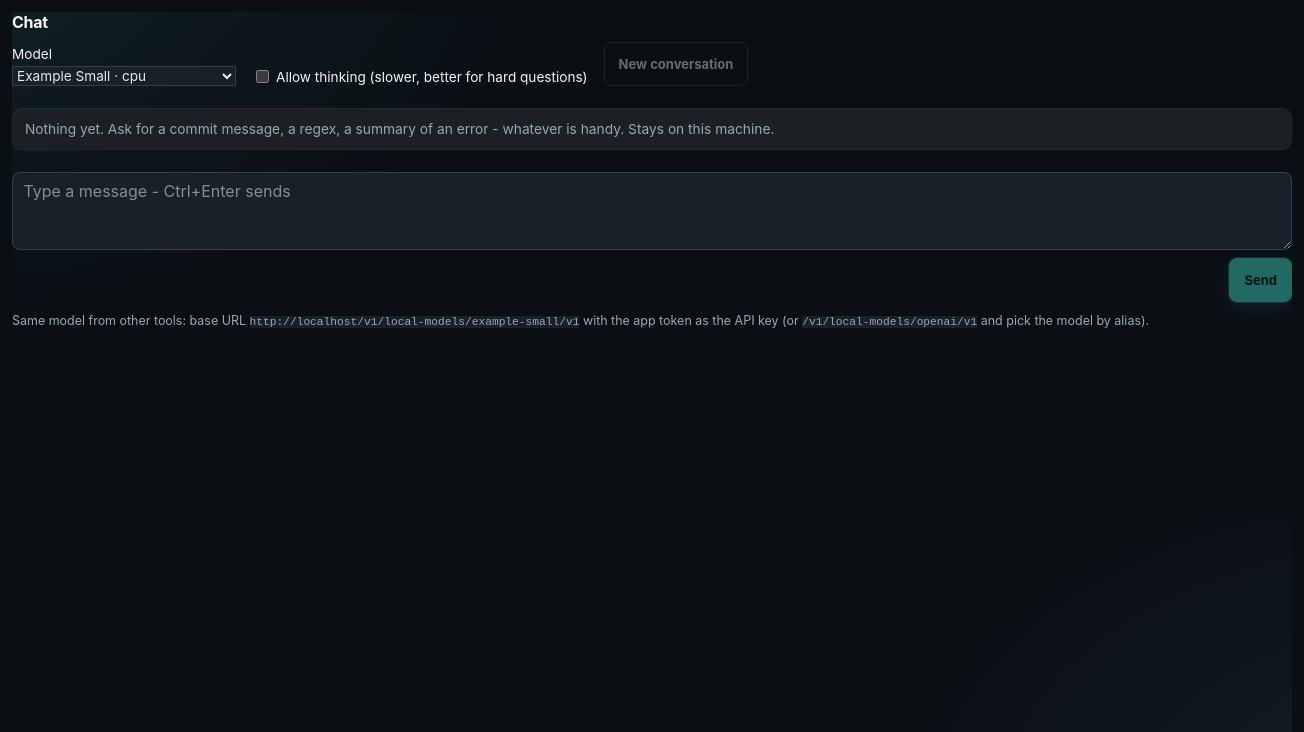
LocalModelChatPanel › retries a token-limited message exactly once while keeping the next draft
Type "Example bounded request" into the text box labelled "message" at (652, 211), box left=12, top=172, right=1292, bottom=250
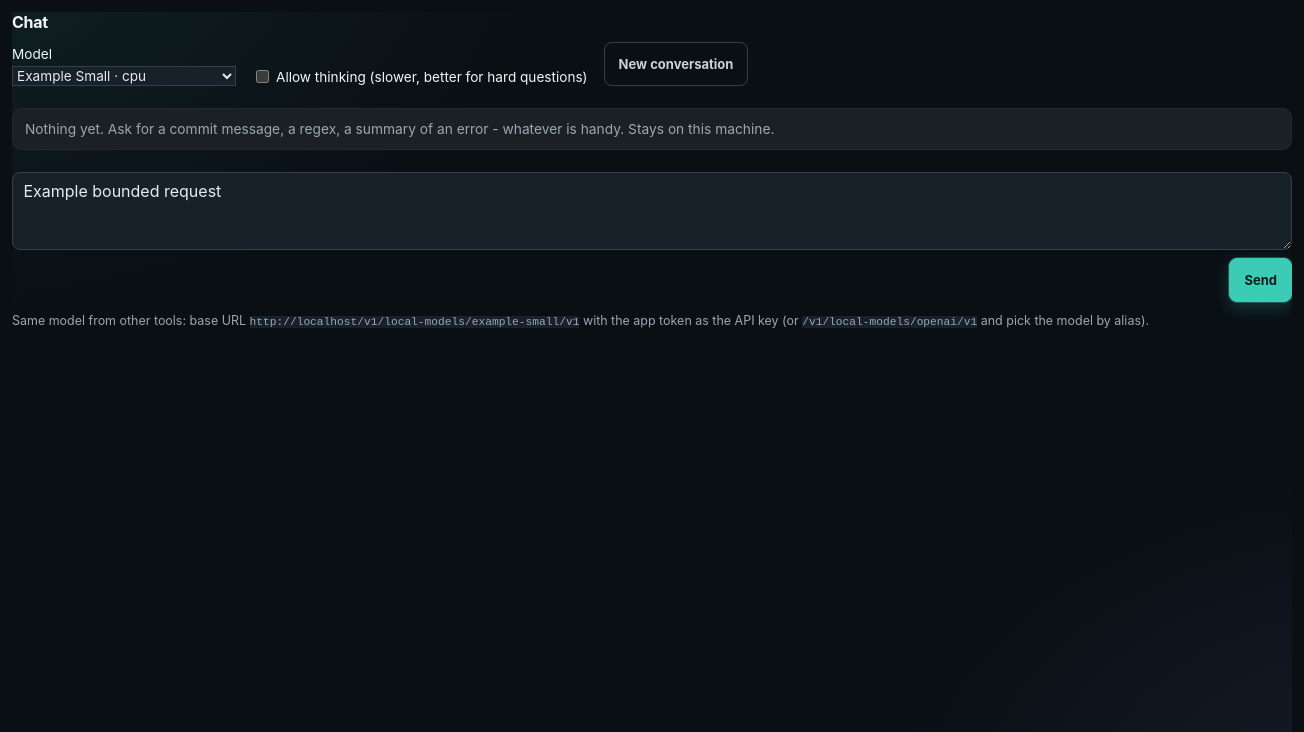
Click the button "Send" at (1261, 280), box left=1230, top=258, right=1292, bottom=302
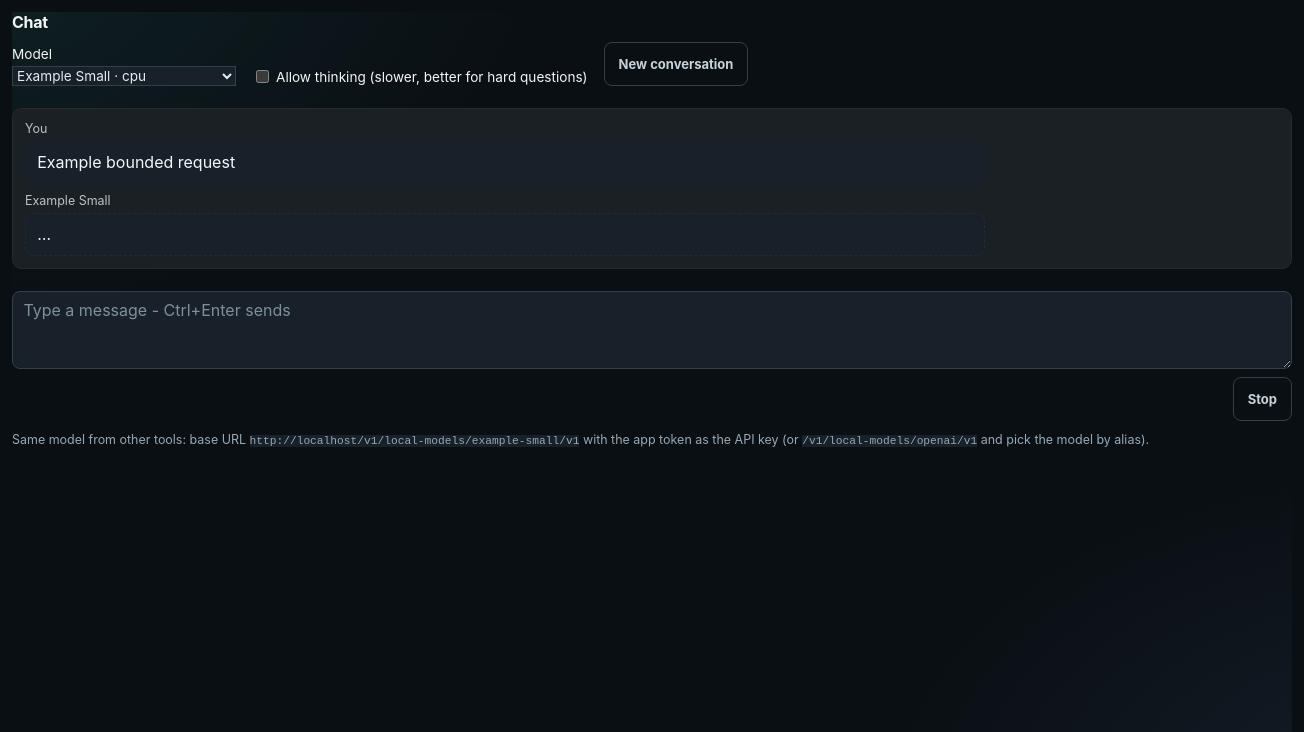
Type "Example next draft" into the text box labelled "message" at (652, 330), box left=12, top=291, right=1292, bottom=369
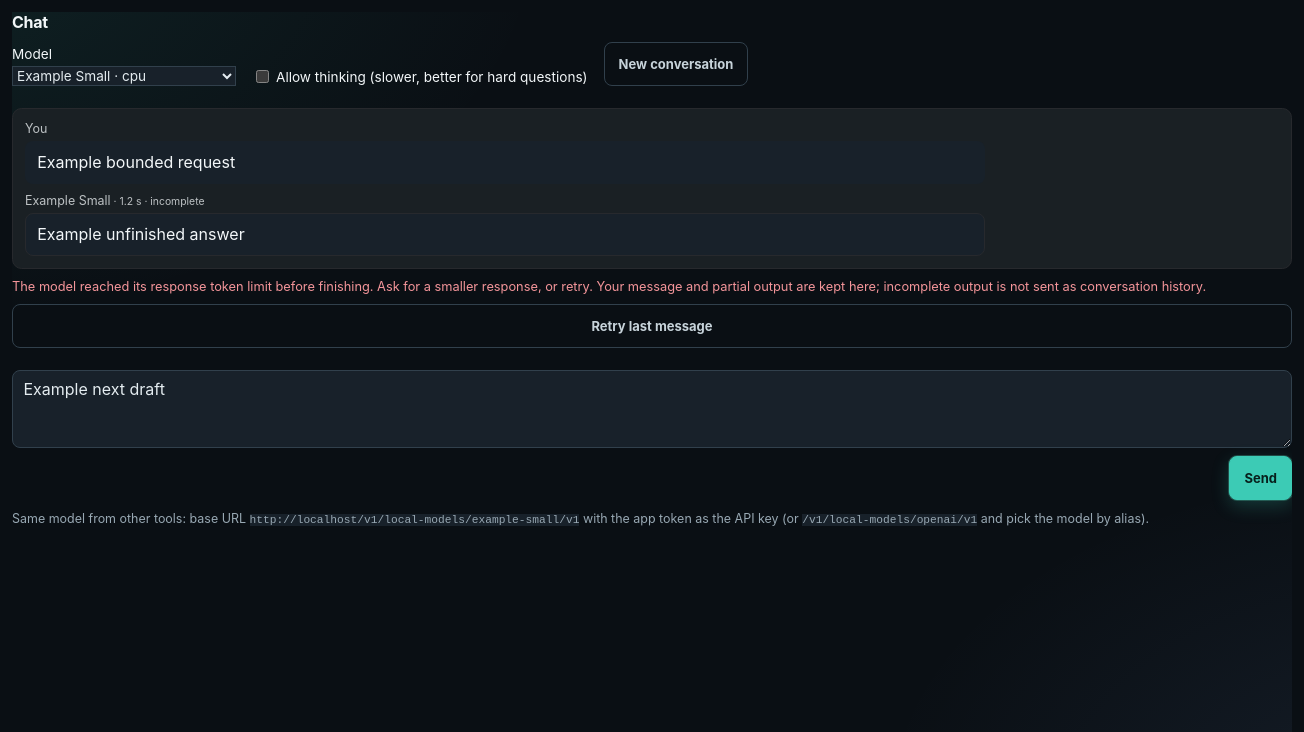
Click the button "Retry last message" at (652, 326), box left=12, top=304, right=1292, bottom=348
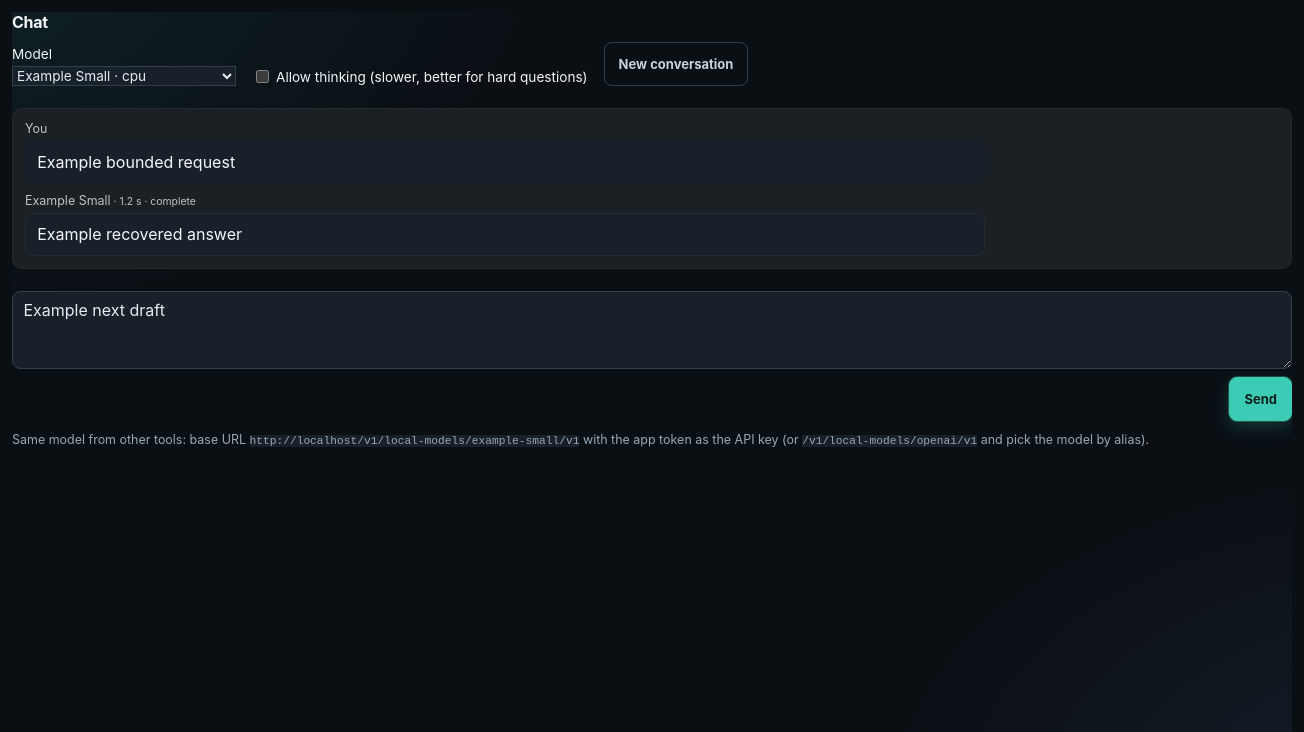
Now the text "Example bounded request" is shown once, box left=25, top=141, right=985, bottom=184
Now the message is gone
Now the button "Retry last message" is gone
